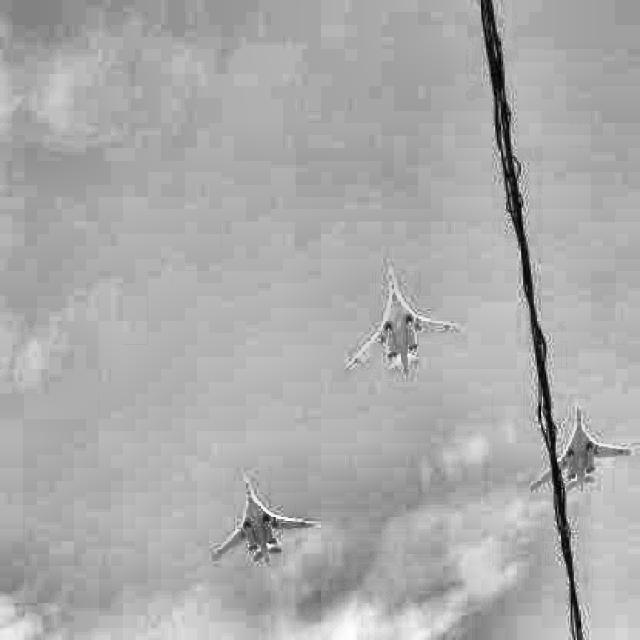Tu160: (346, 267, 459, 378), (529, 403, 631, 497), (212, 476, 314, 567)
